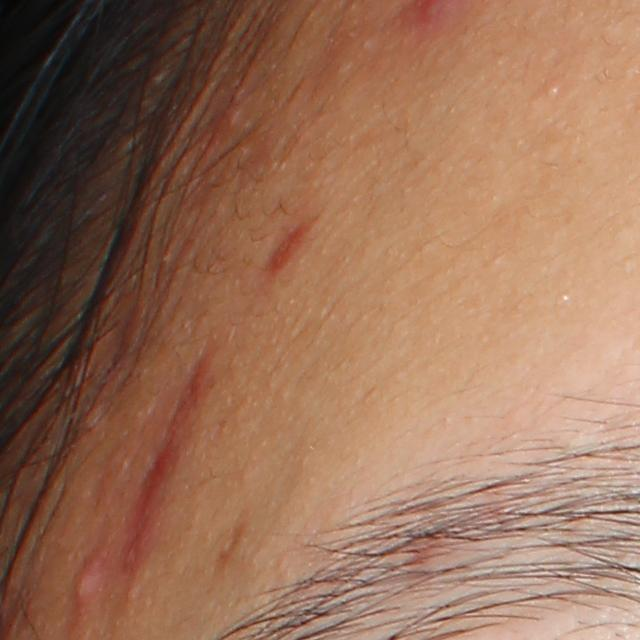comedo: (543, 83, 562, 101)
papule: (72, 565, 107, 608)
